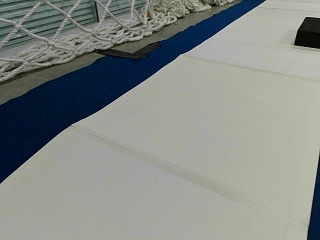block: (294, 16, 319, 48)
